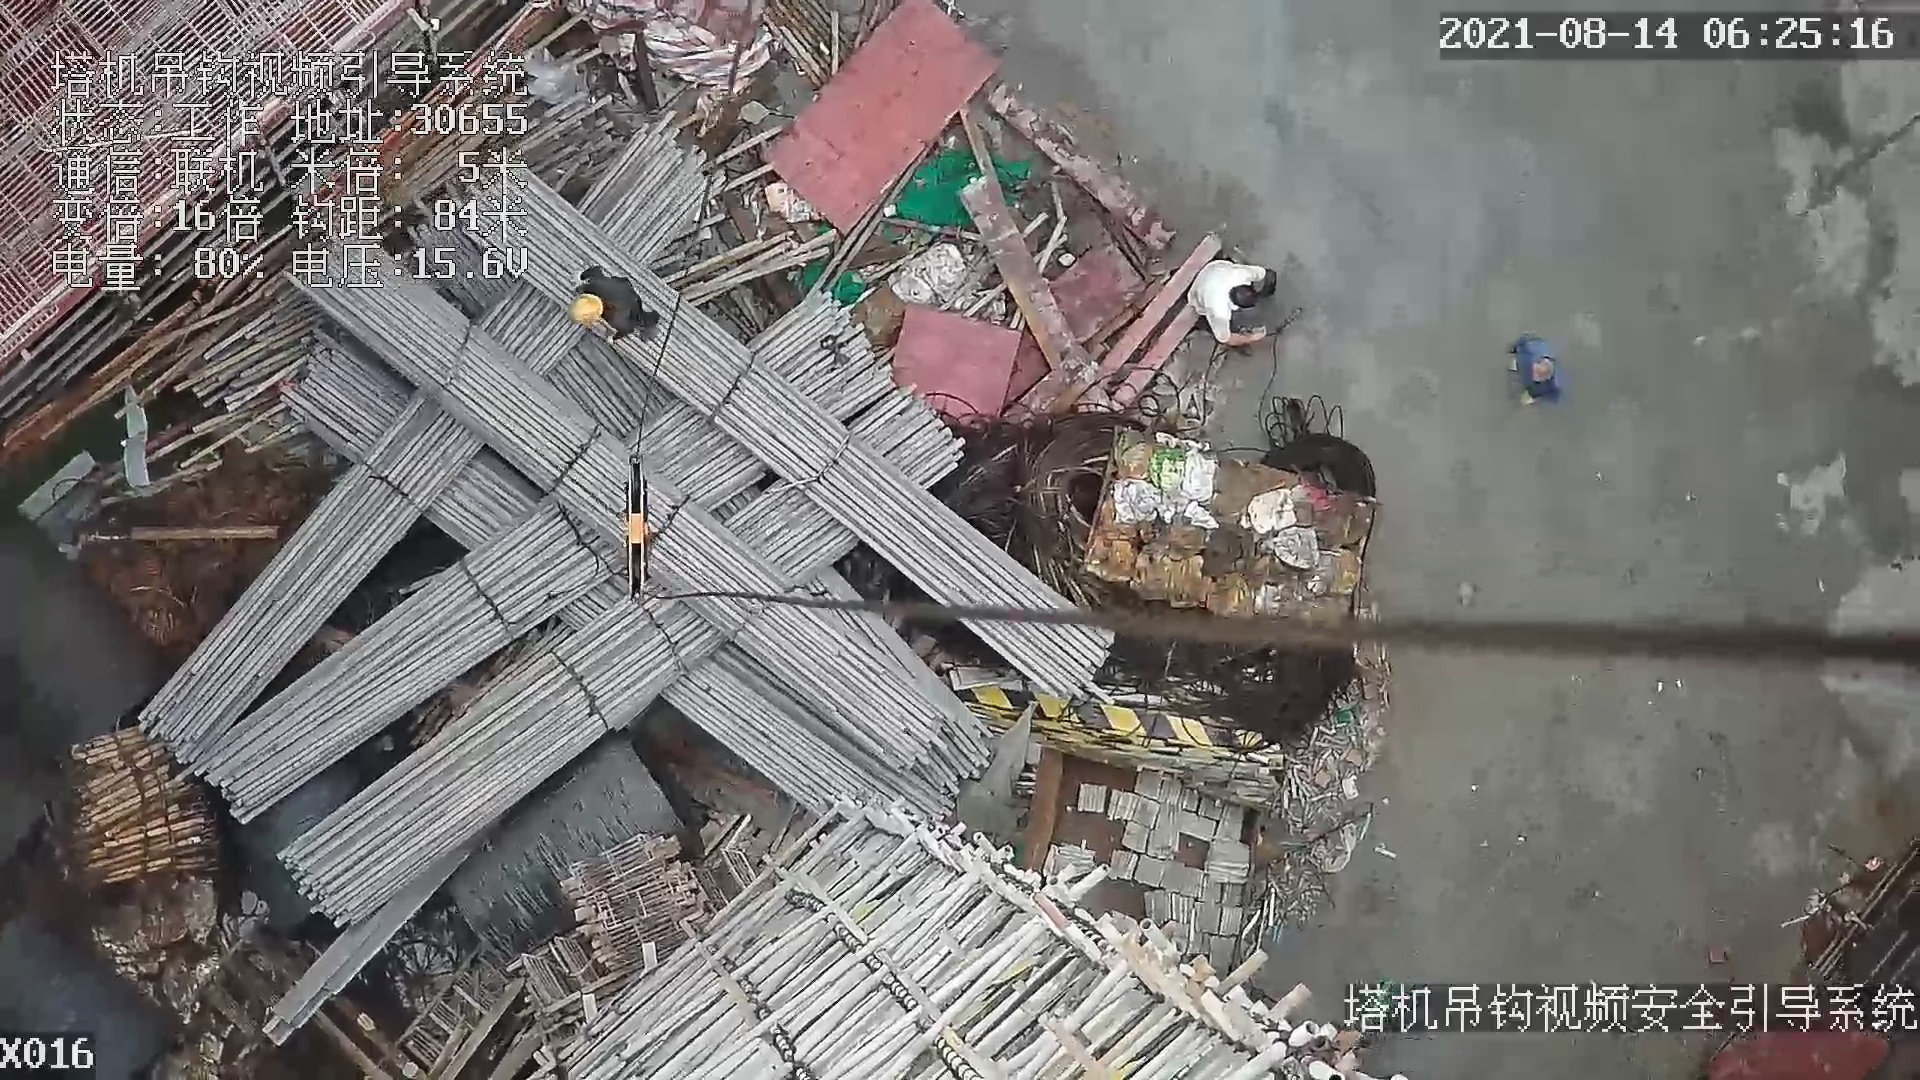helmet: (567, 292, 604, 327)
hook: (620, 451, 659, 597)
person: (1187, 258, 1282, 346), (573, 265, 667, 345), (1508, 328, 1562, 409)
